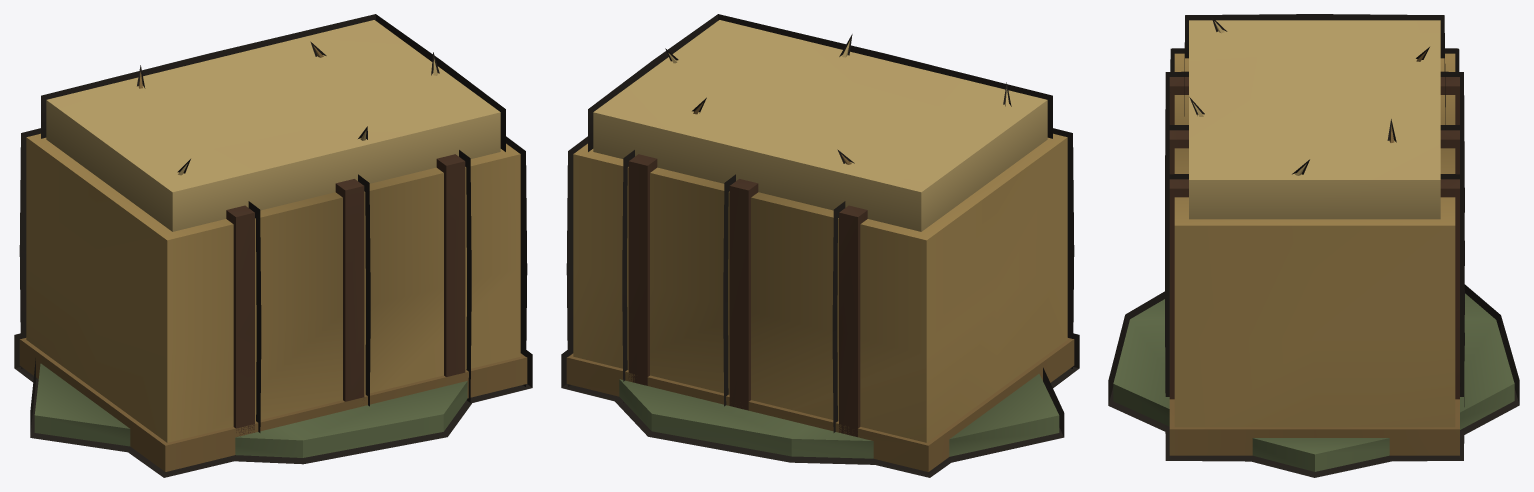
Rendered from botte_foin.glb.
3 views of the same model, side by side, from view 1: azimuth 30°, elevation 25°; view 2: azimuth 150°, elevation 25°; view 3: azimuth 270°, elevation 25° (orthographic).
Visible parts, largest first — view 1: botte_foin, botte_foin_outline; view 2: botte_foin, botte_foin_outline; view 3: botte_foin, botte_foin_outline.
Boxes of the visible parts, bbox=[...] form: botte_foin: bbox=[19, 20, 527, 471]; botte_foin_outline: bbox=[14, 14, 532, 477]; botte_foin: bbox=[566, 20, 1074, 471]; botte_foin_outline: bbox=[561, 14, 1079, 477]; botte_foin: bbox=[1113, 20, 1514, 471]; botte_foin_outline: bbox=[1108, 14, 1519, 477].
Size of the model in its own units: 1.1 by 0.667 by 0.8498.
